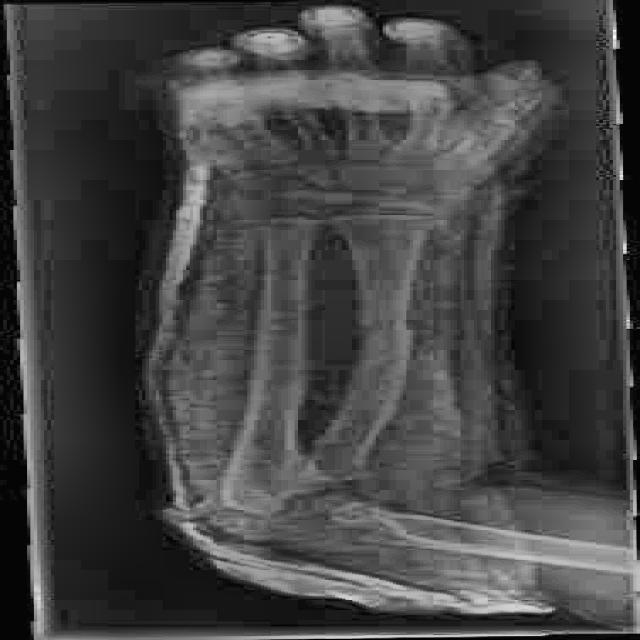forearm fracture: (303, 297, 437, 371)
